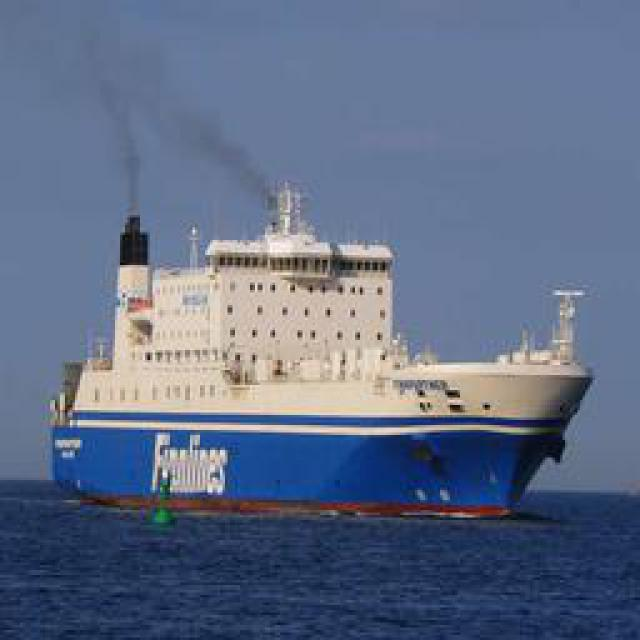Ship: (41, 139, 594, 519)
